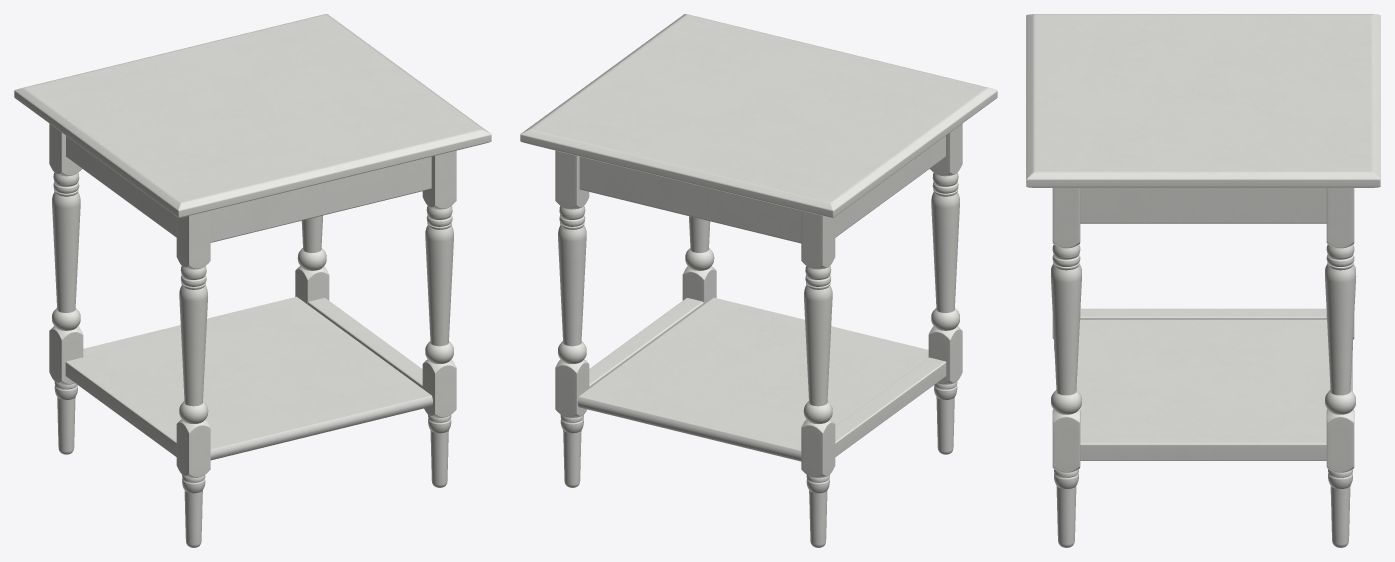
Rendered from table_B07DBB7831.glb.
3 renders of one model, left to right at view 1: azimuth 30°, elevation 25°; view 2: azimuth 150°, elevation 25°; view 3: azimuth 270°, elevation 25°, orthographic. The views are drawn at different scales.
Parts seen in each view (by area): view 1: RootNode; view 2: RootNode; view 3: RootNode.
Boxes of the visible parts, box(x1,y1,x2,y2) form: RootNode: box(14, 14, 491, 547); RootNode: box(520, 14, 997, 547); RootNode: box(1026, 14, 1380, 547).
Size of the model in its own units: 0.5052 by 0.5547 by 0.4594.
Materials: 1 (1 with a texture image).
